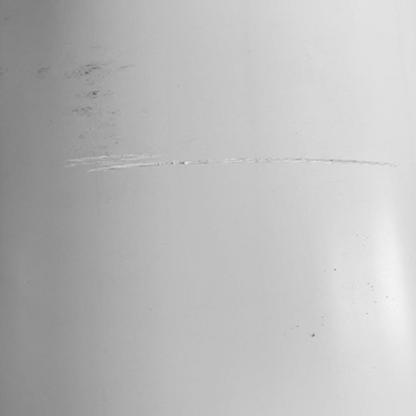sunshang: (67, 148, 401, 178)
